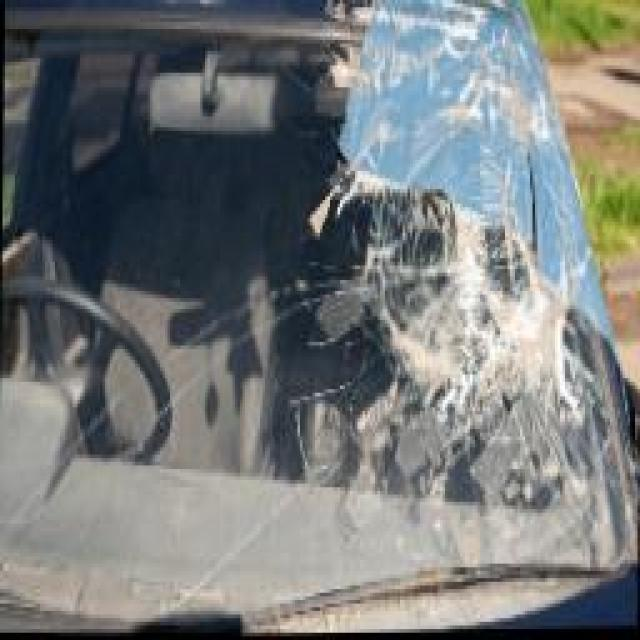Windshield: (28, 7, 572, 631)
